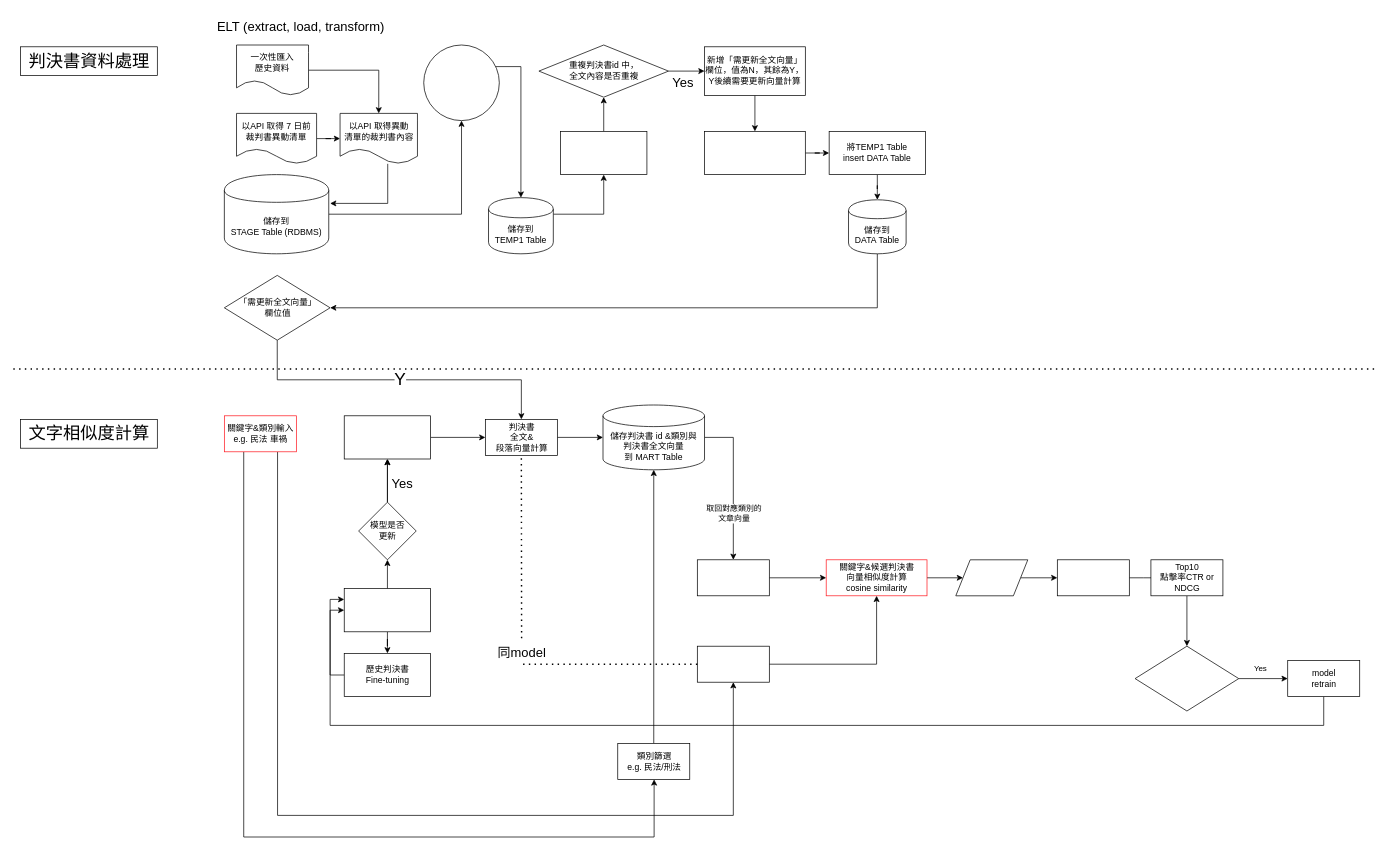
Some shapes in this 1387 by 855 pixel diagram are drawn without their labels. The centre of each missing label's shape, as x and y in pixels:
pretrain model 預訓練模型: (x=387, y=610)
Top 30 相似 作為推薦結果: (x=991, y=577)
候選判決書向量: (x=733, y=577)
刪除 DATA Table 中重複判決書 id: (x=754, y=153)
成效評估: (x=1093, y=577)
每週成效降低 X%: (x=1186, y=678)
比對 (join) TEMP1 & DATA Table 重複判決書 id: (x=603, y=153)
資料轉換 需要把民法/刑法， 等重要搜索 欄位建立: (x=461, y=82)
重新更新所有向量: (x=387, y=437)
關鍵字向量計算: (x=733, y=663)
